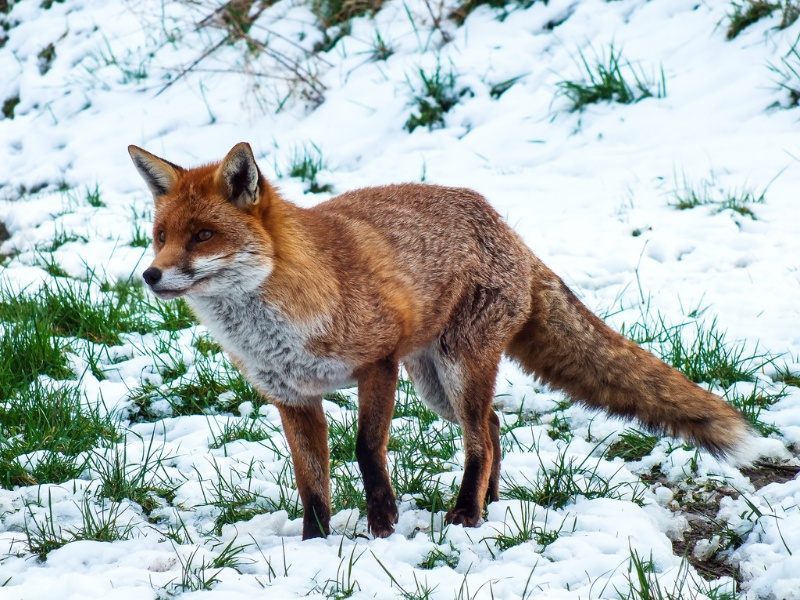fox: (117, 137, 800, 551)
